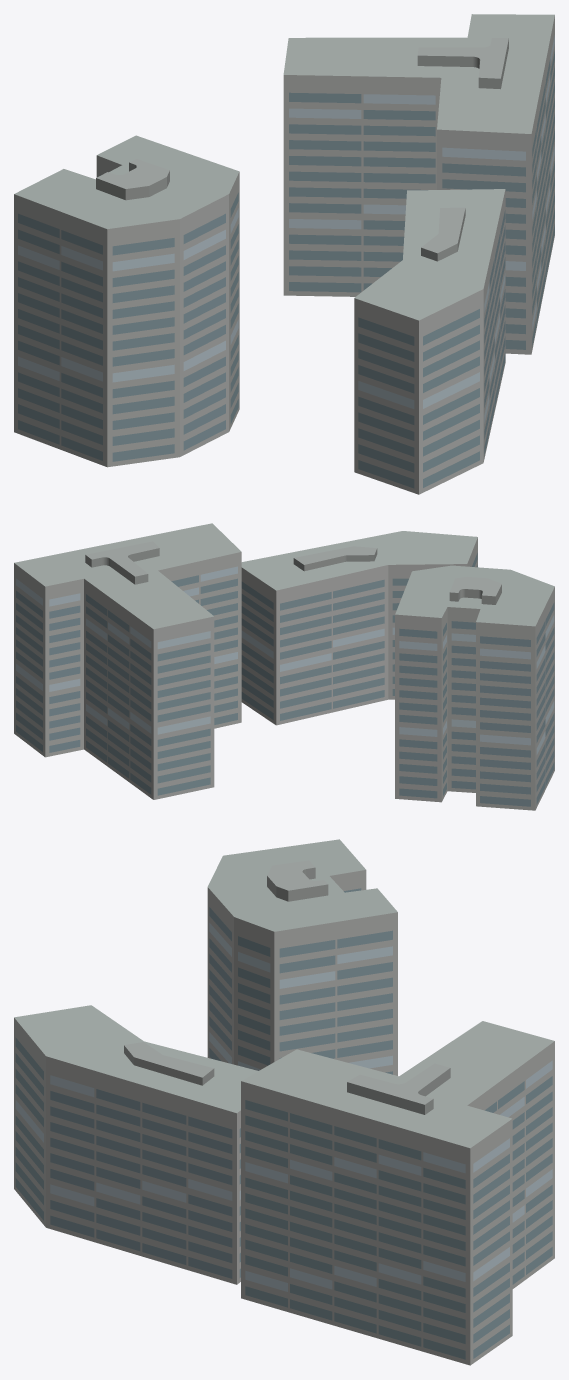
File: apt-a15886510.glb
3 views of the same model, one above another, from view 1: azimuth 30°, elevation 25°; view 2: azimuth 150°, elevation 25°; view 3: azimuth 270°, elevation 25° (orthographic). The views are drawn at different scales.
Parts seen in each view (by area): view 1: apt-a15886510; view 2: apt-a15886510; view 3: apt-a15886510.
Boxes of the visible parts, x1,y1,x2,y2 form: apt-a15886510: (14, 14, 554, 494); apt-a15886510: (14, 523, 554, 810); apt-a15886510: (14, 839, 554, 1365).
Size of the model in its own units: 105 by 41 by 81.89.
